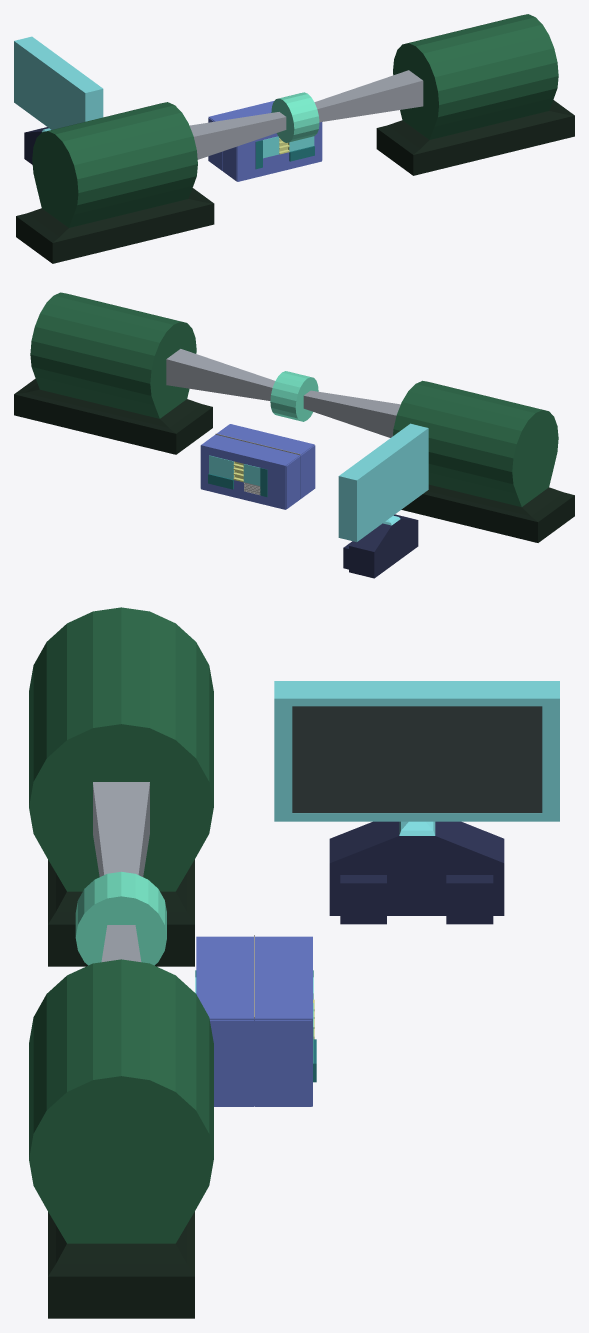
The model's file is GeneratorRoom_SeamMarked.fbx.
3 views of the same model, one above another, from view 1: azimuth 30°, elevation 25°; view 2: azimuth 150°, elevation 25°; view 3: azimuth 270°, elevation 25° (orthographic). The views are drawn at different scales.
Visible parts, largest first — view 1: Broken_Open_Generator, Generator_Computer, Generator_Storage; view 2: Broken_Open_Generator, Generator_Computer, Generator_Storage; view 3: Broken_Open_Generator, Generator_Computer, Generator_Storage.
Boxes of the visible parts, x1,y1,x2,y2 form: Broken_Open_Generator: [16, 14, 574, 263]; Generator_Computer: [14, 36, 103, 164]; Generator_Storage: [208, 100, 322, 181]; Broken_Open_Generator: [14, 292, 574, 542]; Generator_Computer: [338, 423, 428, 578]; Generator_Storage: [200, 424, 315, 509]; Broken_Open_Generator: [29, 607, 213, 1318]; Generator_Computer: [274, 681, 559, 924]; Generator_Storage: [195, 935, 316, 1106].
Bounding box in the file's own units: 62.16 × 12.62 × 27.36.
